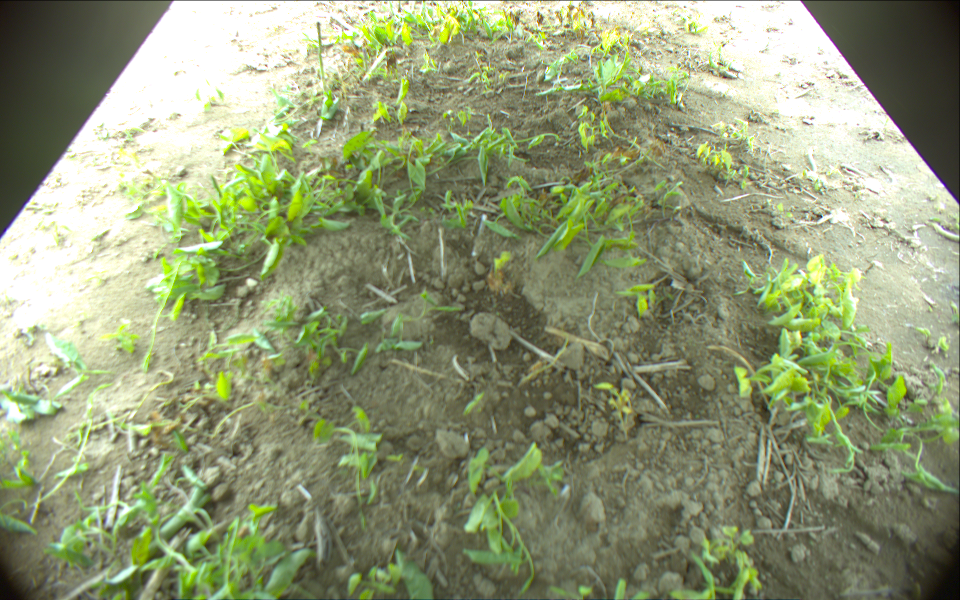aspa: (314, 22, 331, 101)
